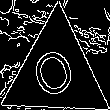O_SE: (29, 39, 84, 105)
